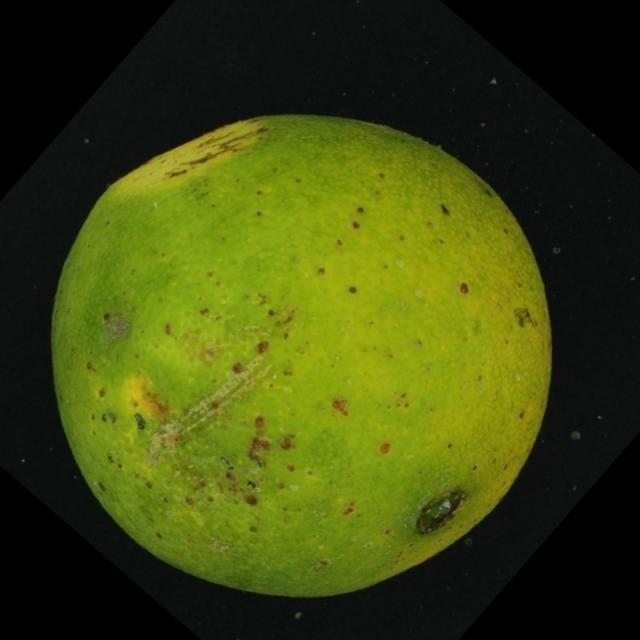grenning: (42, 98, 574, 617)
